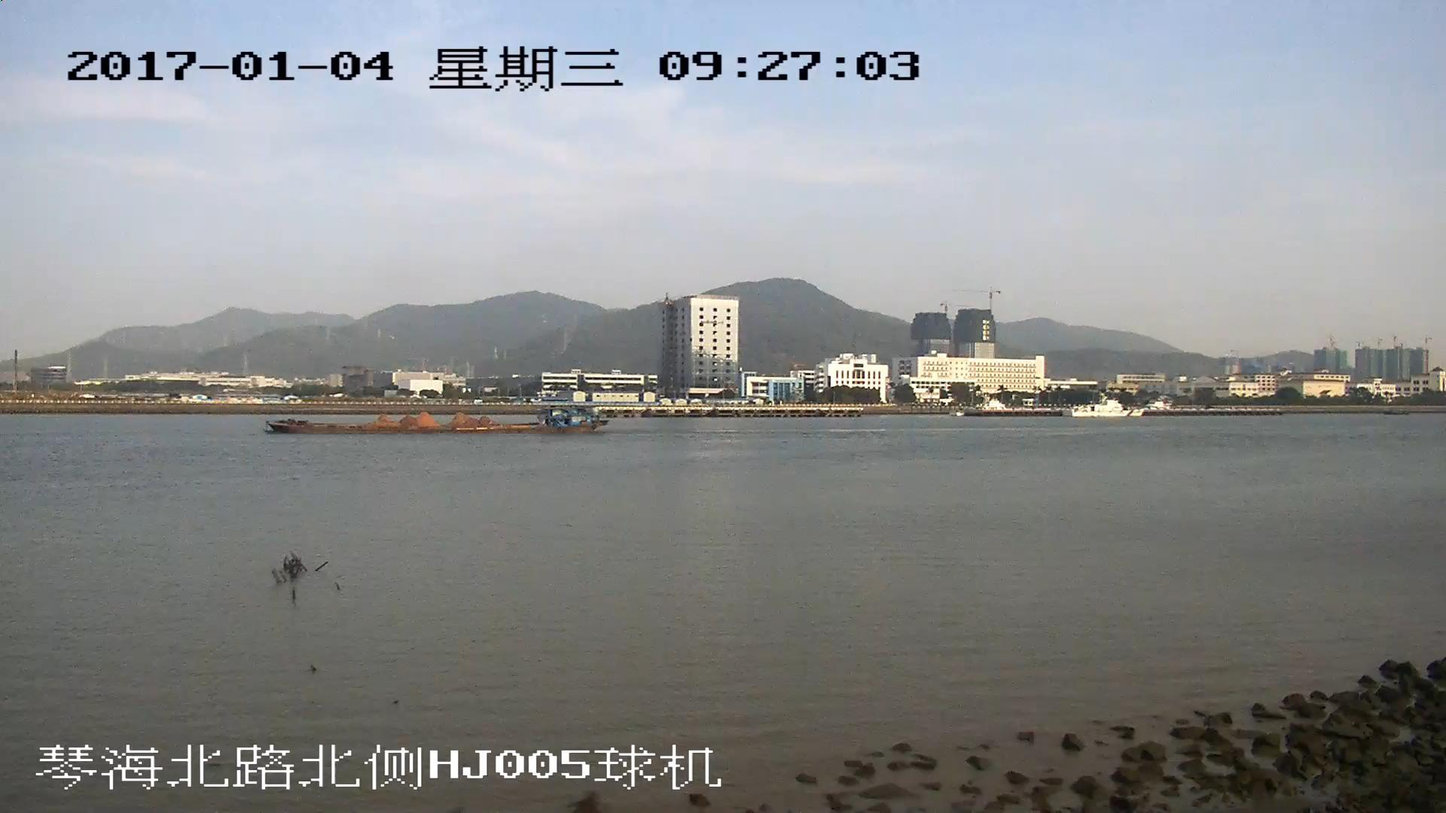ore carrier: (267, 406, 604, 434)
